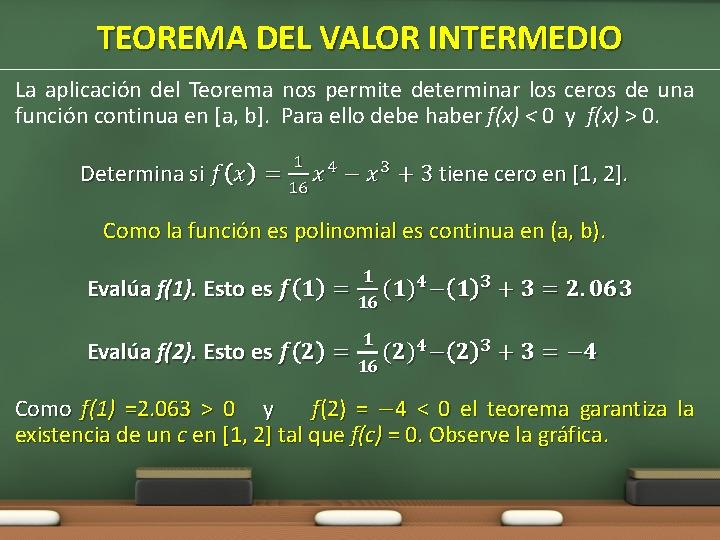paragraph: (4, 73, 712, 463)
title: (94, 13, 633, 62)
